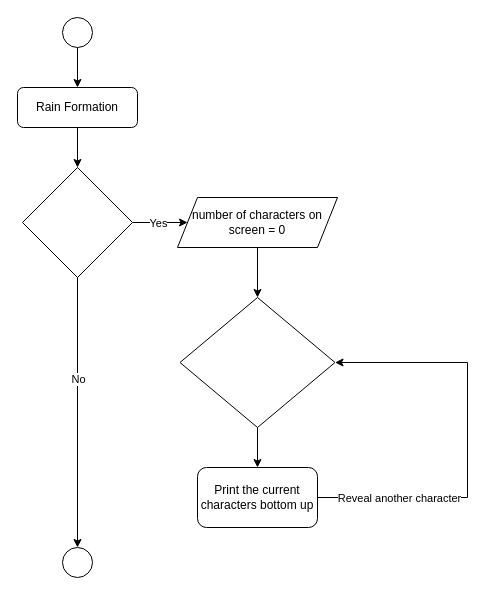
Some shapes in this 493 by 595 pixel diagram are drawn without their labels. The shapes that lost their labels are listed below. From the top down, each one's centre as x and y in pixels, then its label:
the point at 77,222: Droplet at the top of the page?
the point at 257,362: no. of characters on screen <= numbers of characters?
